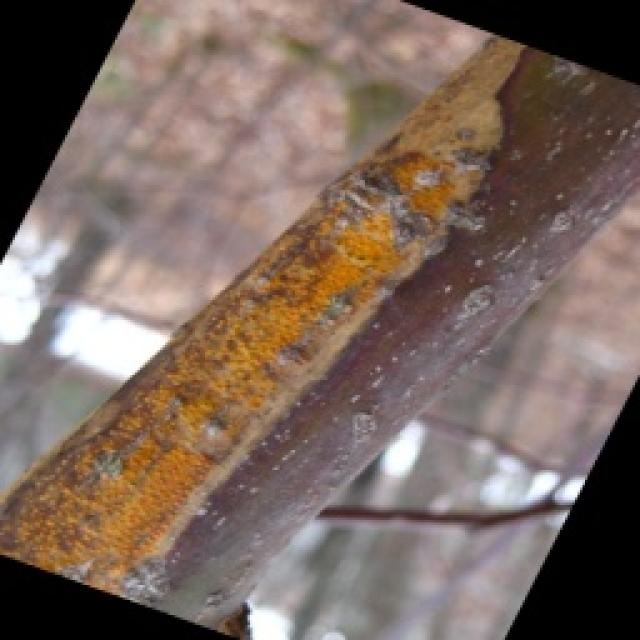Golden_canker: (26, 59, 640, 636)
